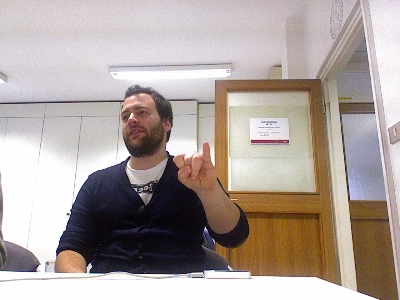小指: (172, 139, 220, 193)
